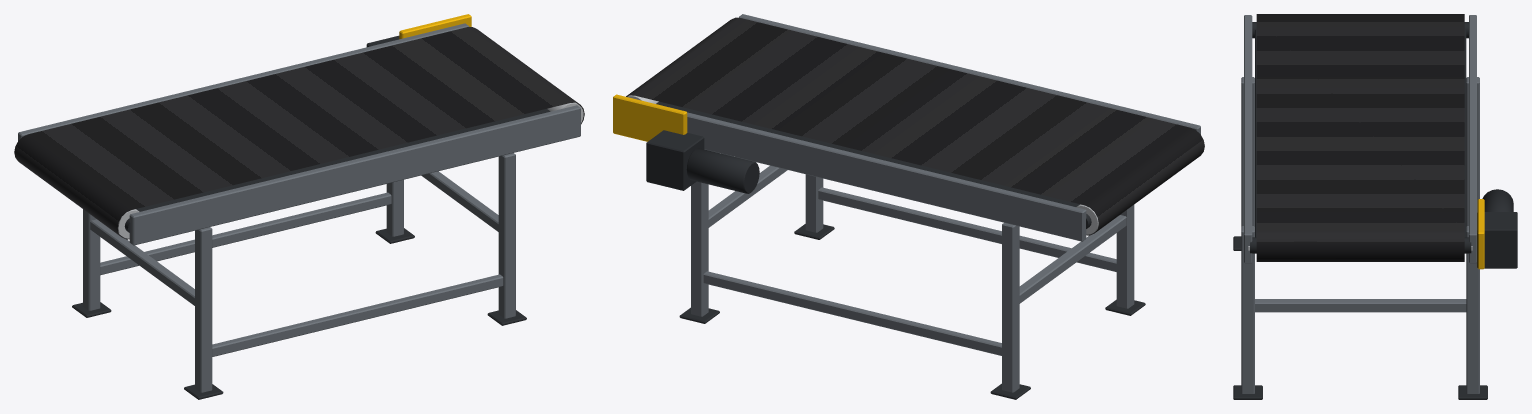
Rendered from belt_conveyor_2m.glb.
The picture shows the model from 3 angles, left to right: view 1: azimuth 30°, elevation 25°; view 2: azimuth 150°, elevation 25°; view 3: azimuth 270°, elevation 25°; orthographic projection. The views are drawn at different scales.
Parts seen in each view (by area): view 1: Belt, Conveyor_Static; view 2: Belt, Conveyor_Static; view 3: Belt, Conveyor_Static.
Part boxes in pixels (x1,y1,x2,y2): Belt: (14, 27, 584, 239); Conveyor_Static: (18, 14, 580, 399); Belt: (626, 17, 1204, 235); Conveyor_Static: (613, 14, 1200, 399); Belt: (1256, 14, 1464, 261); Conveyor_Static: (1233, 15, 1517, 399).
Size of the model in its own units: 2 by 0.815 by 1.05.
5 materials, 1 textured.
